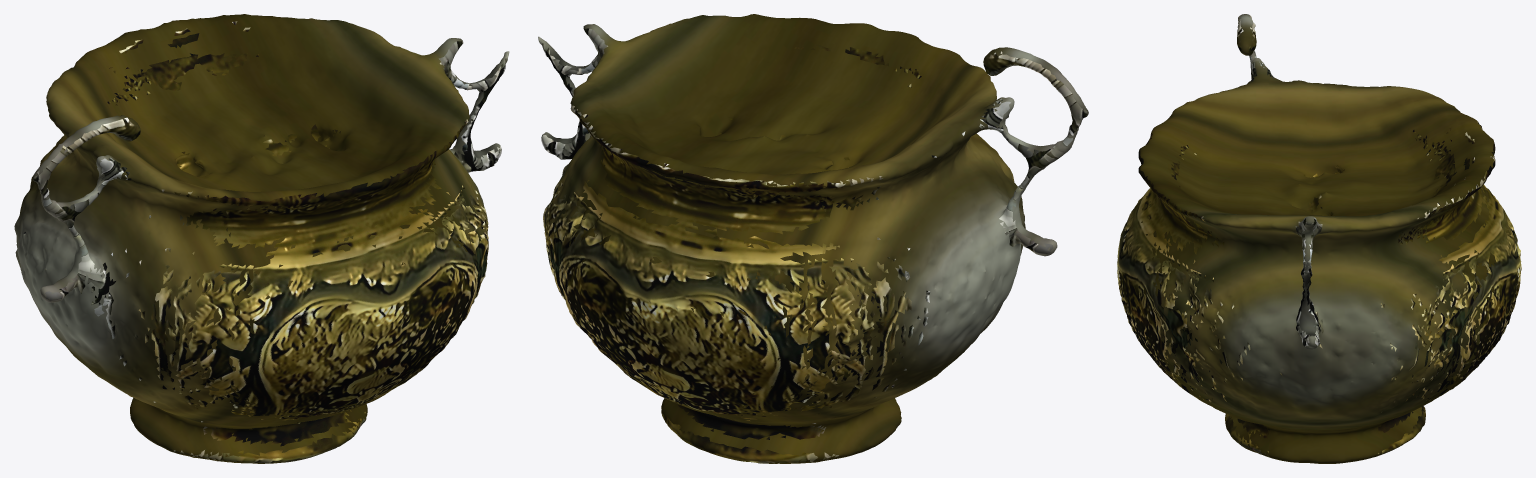
Rendered from kfl-2250.glb.
3 renders of one model, left to right at view 1: azimuth 30°, elevation 25°; view 2: azimuth 150°, elevation 25°; view 3: azimuth 270°, elevation 25°, orthographic. The views are drawn at different scales.
Parts seen in each view (by area): view 1: kfl-2250; view 2: kfl-2250; view 3: kfl-2250.
Part boxes in pixels (box(x1,y1,x2,y2)): kfl-2250: box(14, 14, 509, 463); kfl-2250: box(538, 14, 1088, 463); kfl-2250: box(1117, 14, 1521, 463).
Bounding box in the file's own units: 0.9881 × 0.7045 × 0.7884.
4 materials, 4 textured.
